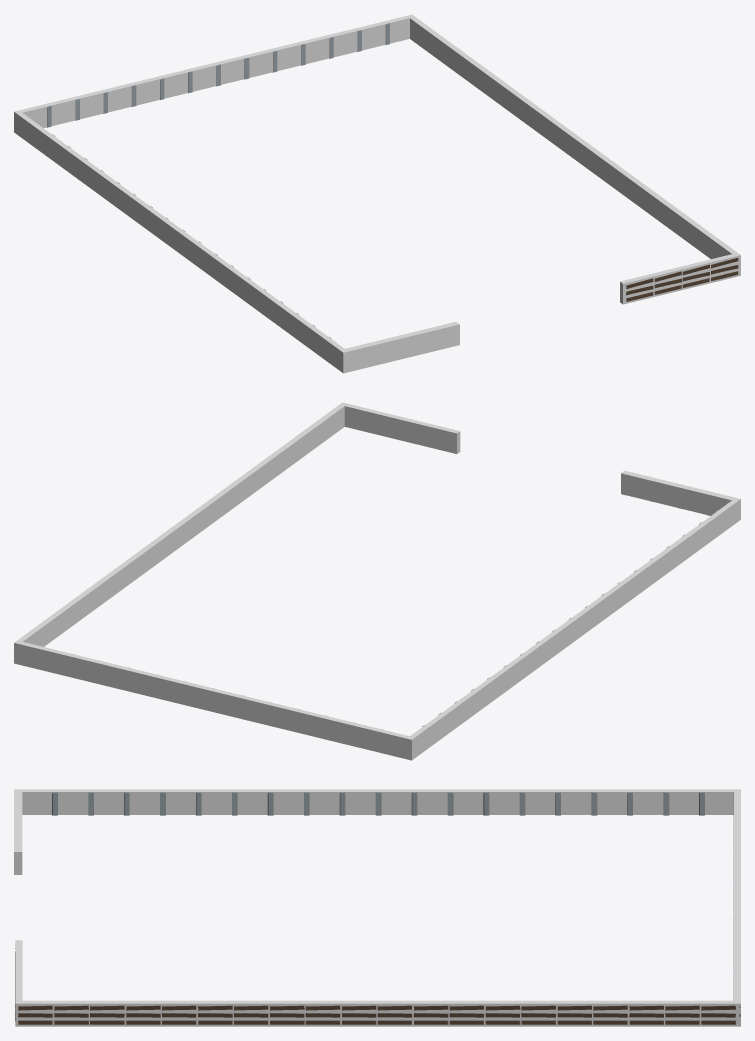
File: fence.glb
3 renders of one model, top to bottom at view 1: azimuth 30°, elevation 25°; view 2: azimuth 150°, elevation 25°; view 3: azimuth 270°, elevation 25°, orthographic. The views are drawn at different scales.
Visible parts, largest first — view 1: FencePhysics, Fence; view 2: FencePhysics; view 3: FencePhysics, Fence.
Boxes of the visible parts, box(x1,y1,x2,y2) form: FencePhysics: box(14, 14, 740, 373); Fence: box(22, 23, 738, 338); FencePhysics: box(14, 402, 740, 760); FencePhysics: box(14, 789, 740, 1026); Fence: box(15, 792, 740, 1024).
Size of the model in its own units: 59.59 by 2.99 by 85.26.
